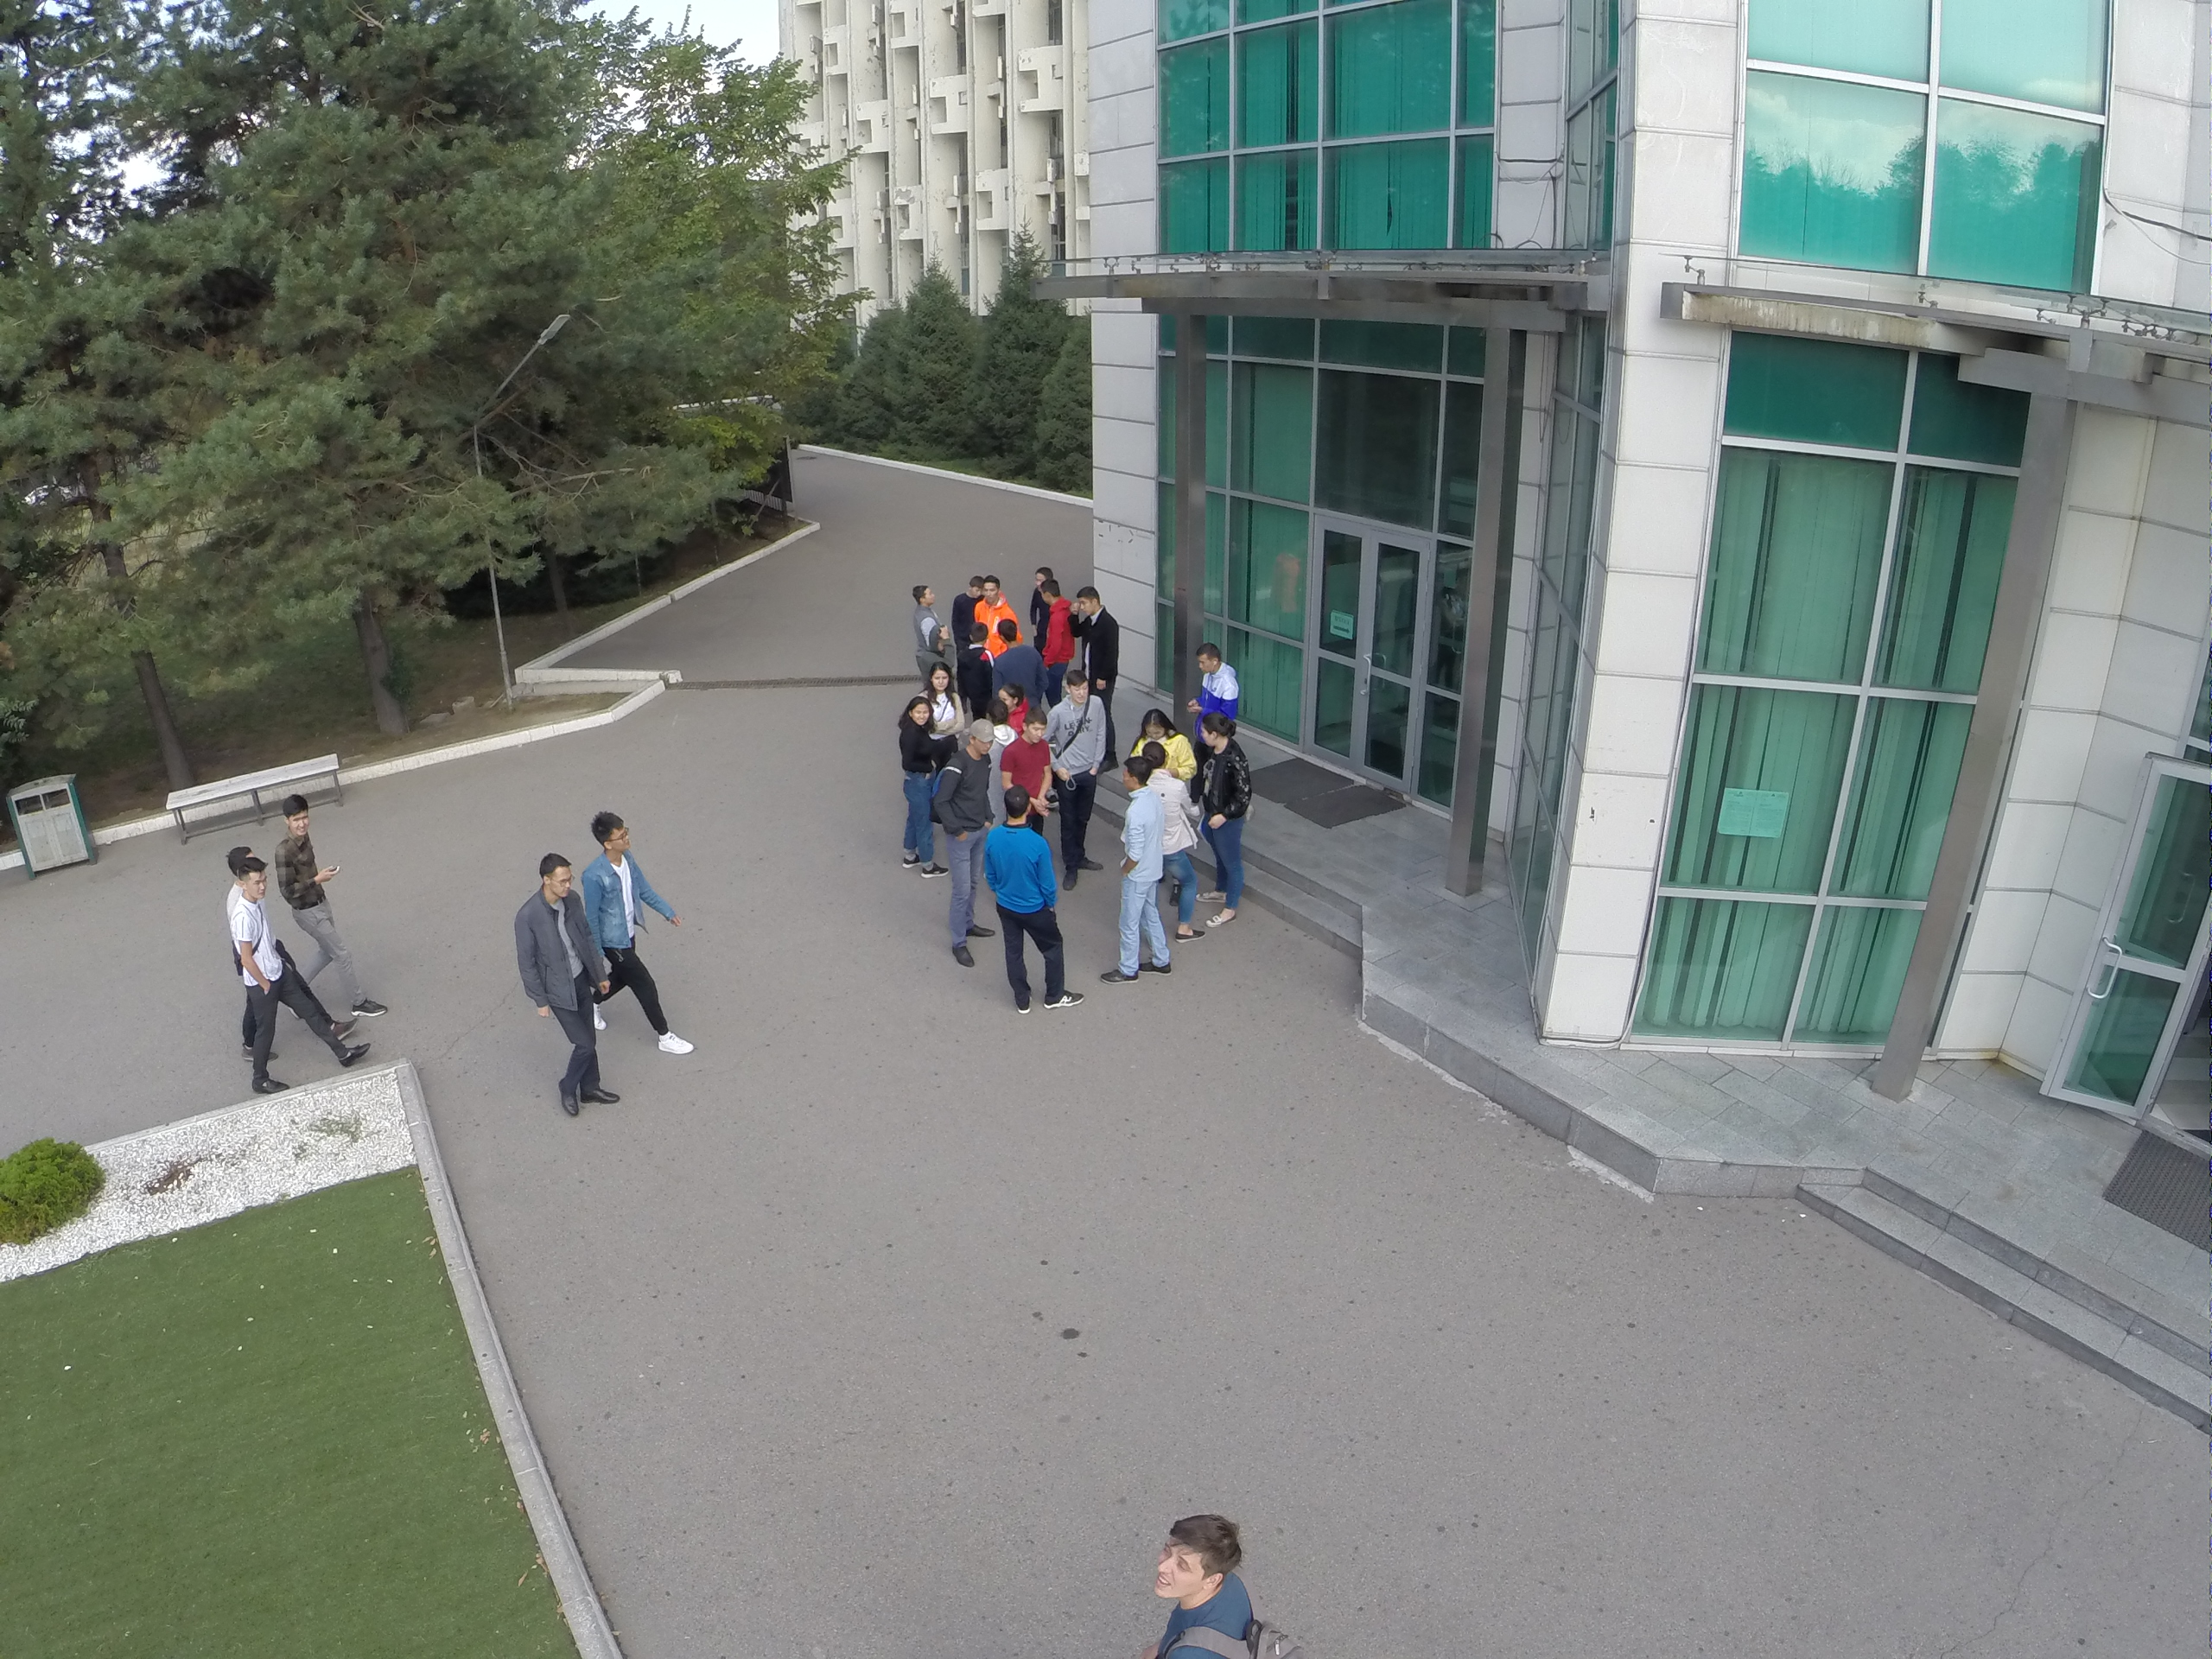person: (219, 866, 375, 1090), (573, 804, 696, 1058), (489, 846, 607, 1108), (264, 791, 393, 1017), (979, 791, 1082, 1021), (930, 718, 1000, 969), (1111, 753, 1173, 978), (1192, 726, 1249, 936), (1056, 671, 1104, 896), (1152, 741, 1205, 939), (887, 701, 944, 886), (898, 576, 948, 668), (1080, 582, 1123, 667), (1193, 638, 1243, 712), (991, 630, 1043, 697), (1038, 582, 1074, 677), (1011, 714, 1050, 784), (958, 625, 993, 695), (955, 574, 987, 640), (923, 666, 950, 724), (978, 580, 1006, 631)
